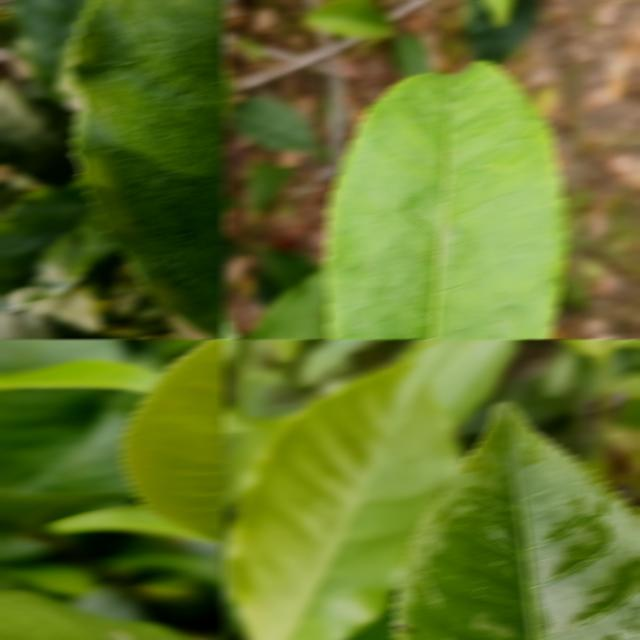Leaf: (323, 61, 568, 339), (225, 365, 458, 640), (393, 403, 640, 640), (71, 0, 226, 339), (121, 339, 226, 541), (0, 179, 123, 311), (394, 339, 522, 426), (0, 387, 105, 481), (0, 81, 80, 185), (14, 0, 94, 100), (244, 267, 331, 339), (0, 360, 160, 393), (227, 96, 321, 150), (0, 339, 125, 372), (302, 0, 395, 38), (0, 310, 116, 339), (246, 161, 294, 211), (612, 371, 640, 399)
